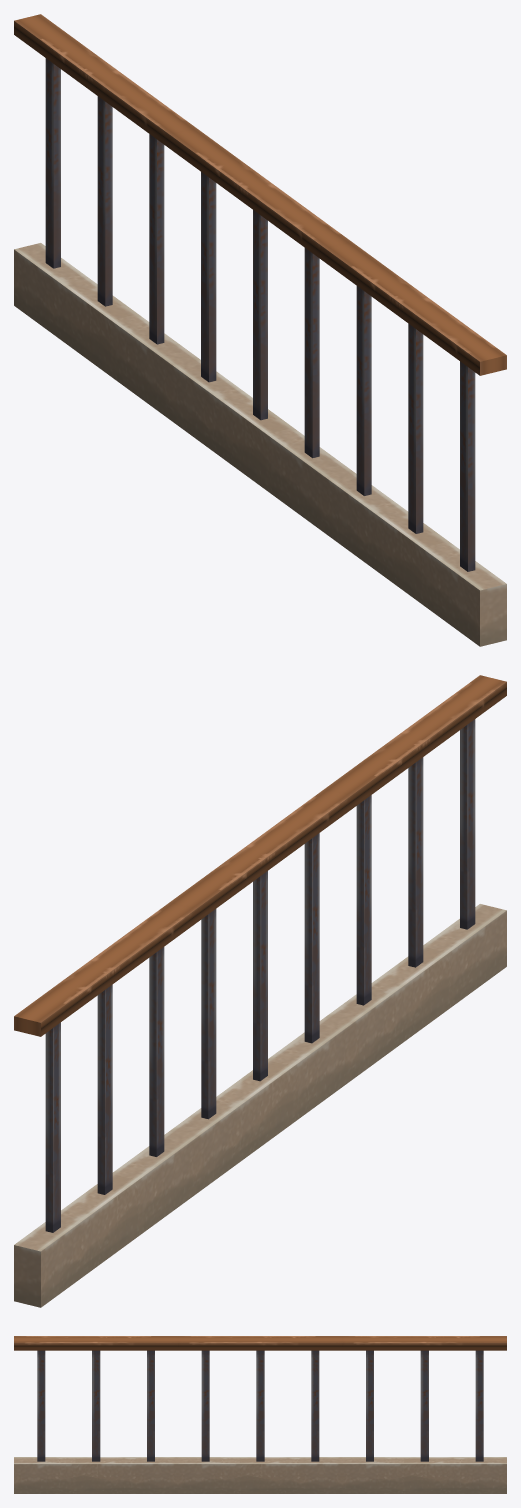
Rendered from railing_3m.fbx.
The picture shows the model from 3 angles, top to bottom: view 1: azimuth 30°, elevation 25°; view 2: azimuth 150°, elevation 25°; view 3: azimuth 270°, elevation 25°; orthographic projection. The views are drawn at different scales.
Parts seen in each view (by area): view 1: railing_3m; view 2: railing_3m; view 3: railing_3m.
Boxes of the visible parts, x1,y1,x2,y2 form: railing_3m: (14, 14, 506, 646); railing_3m: (14, 675, 506, 1307); railing_3m: (14, 1336, 506, 1493).
Bounding box in the file's own units: 10 × 101 × 300.
